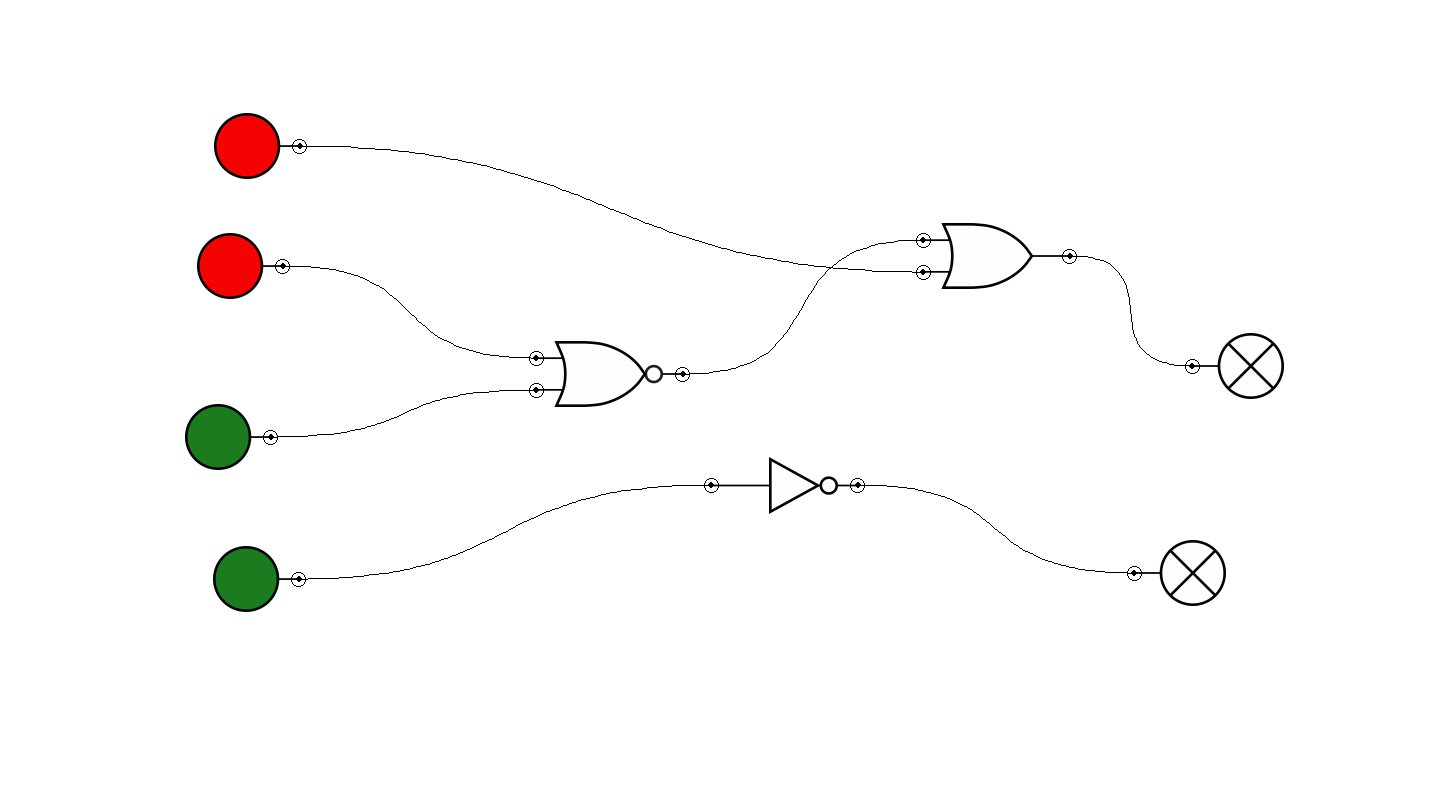bulb: (1127, 540, 1226, 606), (1185, 333, 1284, 399)
nor: (529, 341, 690, 407)
not: (704, 457, 865, 514)
or: (916, 223, 1077, 289)
switch_False: (214, 113, 307, 179), (197, 233, 290, 299)
switch_True: (185, 404, 278, 470), (213, 546, 306, 612)
